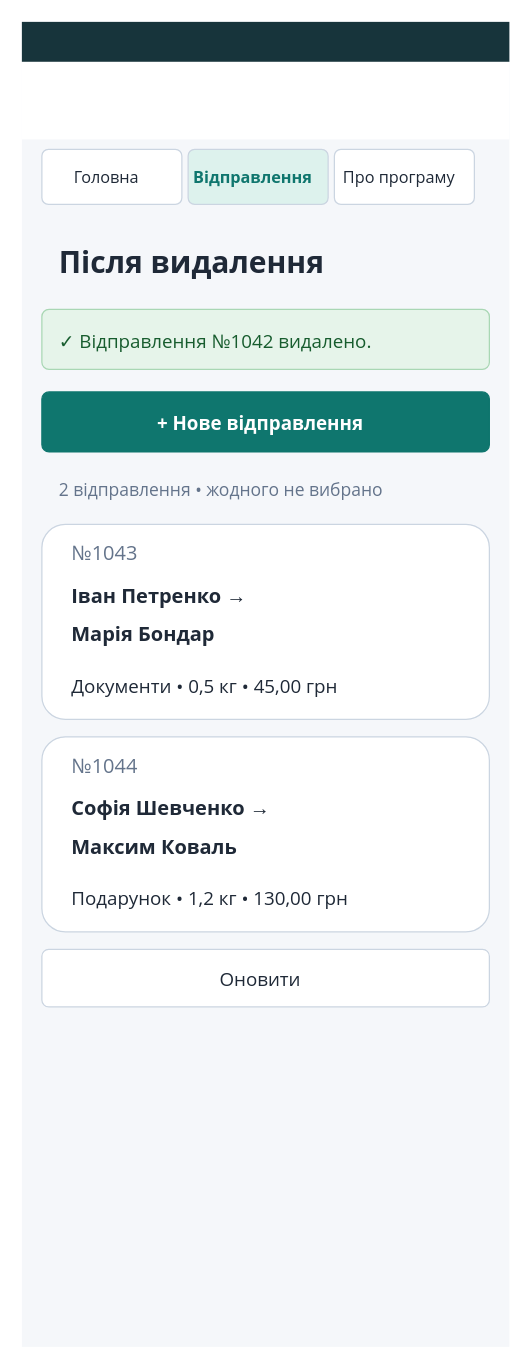
This 530x1368 diagram has some shape labels left out. Each missing label, with the box of its shape:
9:41 4G 100%: (21, 21, 509, 61)
PostService: (21, 61, 509, 139)
